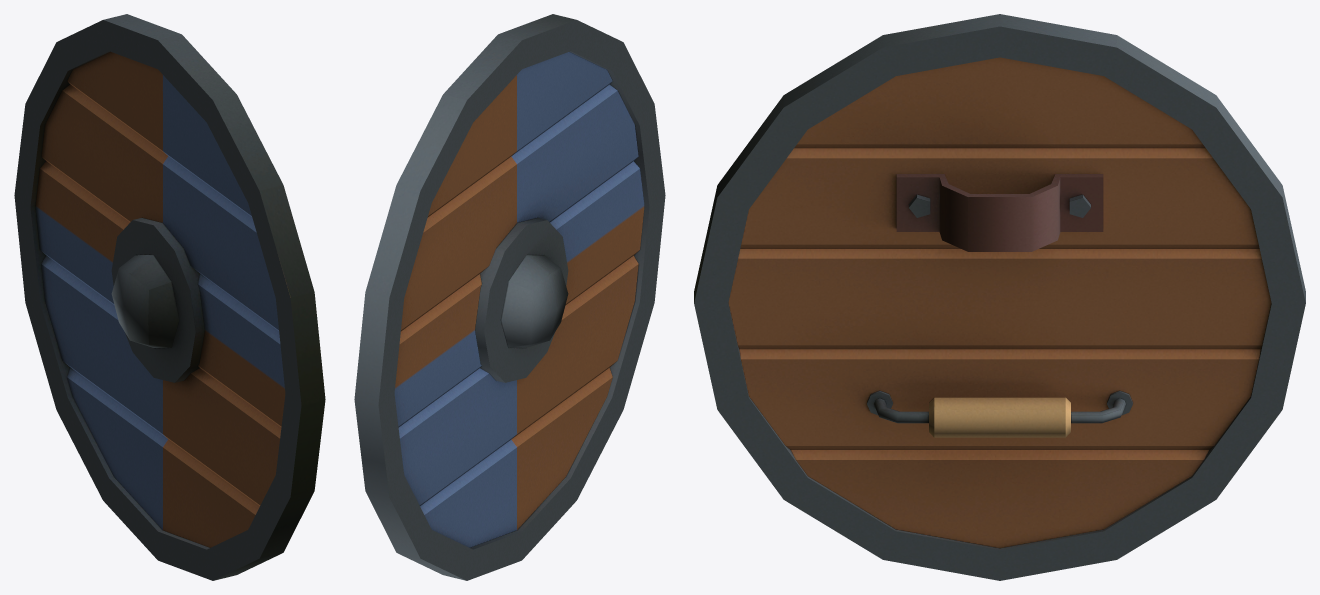
File: shield.gltf
3 renders of one model, left to right at view 1: azimuth 30°, elevation 25°; view 2: azimuth 150°, elevation 25°; view 3: azimuth 270°, elevation 25°, orthographic. The views are drawn at different scales.
Visible parts, largest first — view 1: stylized_low_poly_viking_shield; view 2: stylized_low_poly_viking_shield; view 3: stylized_low_poly_viking_shield.
Boxes of the visible parts, left/top/right/bottom form: stylized_low_poly_viking_shield: left=14, top=14, right=325, bottom=580; stylized_low_poly_viking_shield: left=354, top=14, right=665, bottom=580; stylized_low_poly_viking_shield: left=694, top=14, right=1305, bottom=580.
Size of the model in its own units: 0.8108 by 3.95 by 3.95.
1 material, 1 textured.
